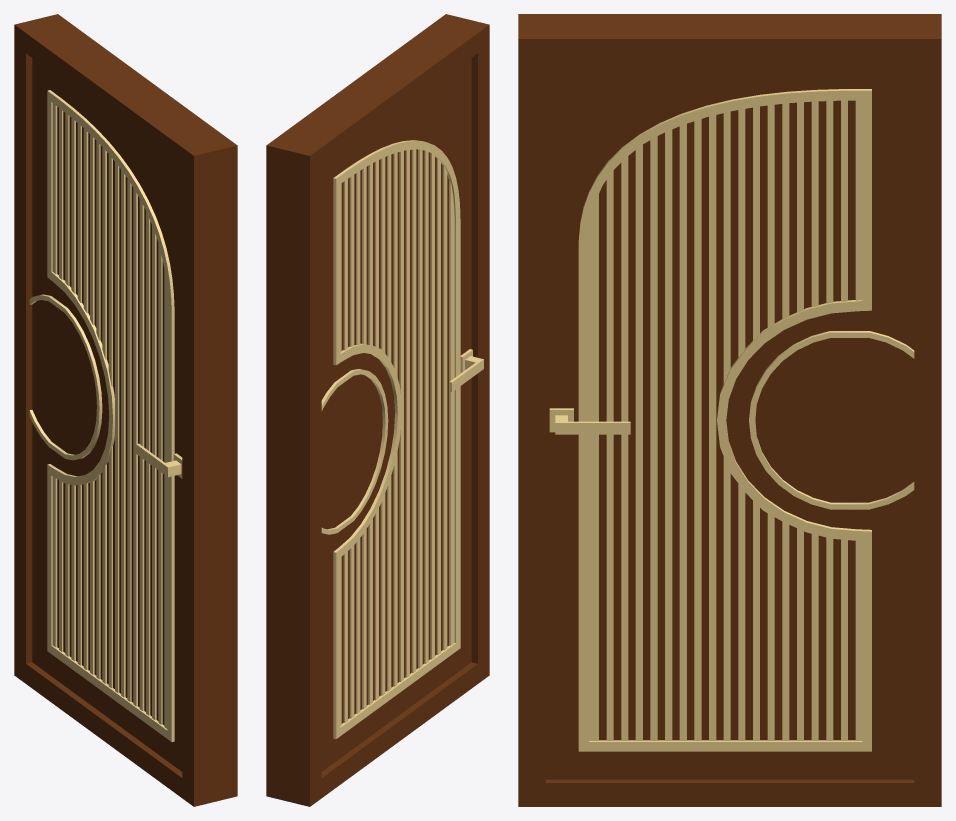
File: InteriorDoor.fbx
3 views of the same model, side by side, from view 1: azimuth 30°, elevation 25°; view 2: azimuth 150°, elevation 25°; view 3: azimuth 270°, elevation 25° (orthographic). The views are drawn at different scales.
Parts seen in each view (by area): view 1: Circle.017; view 2: Circle.017; view 3: Circle.017.
Part boxes in pixels (bbox=[...]): Circle.017: bbox=[14, 14, 237, 806]; Circle.017: bbox=[266, 14, 489, 806]; Circle.017: bbox=[518, 14, 941, 806].
Bounding box in the file's own units: 20.55 × 200 × 100.
1 material, 1 textured.
